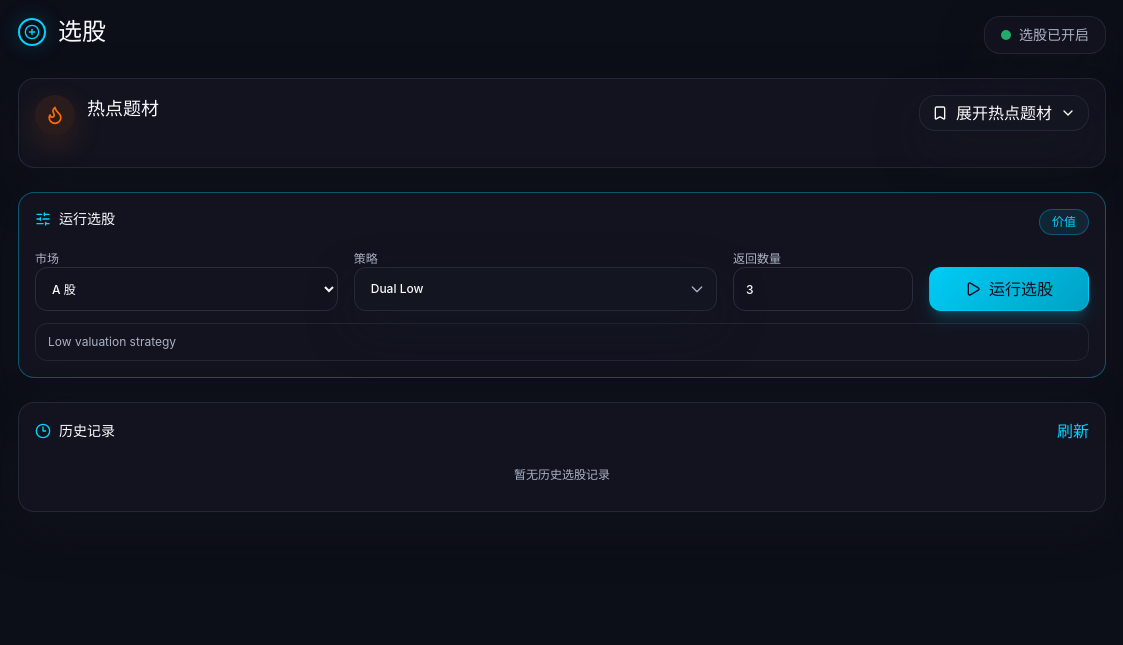
Test: StockScreeningPage › localizes backend hotspot no-cache hint on initial load
This screenshot has width=1123, height=645.
Expected: the text "暂无热点缓存" is not shown
Click the button "展开热点题材".
click(1004, 113)  # box [919,95,1089,131]
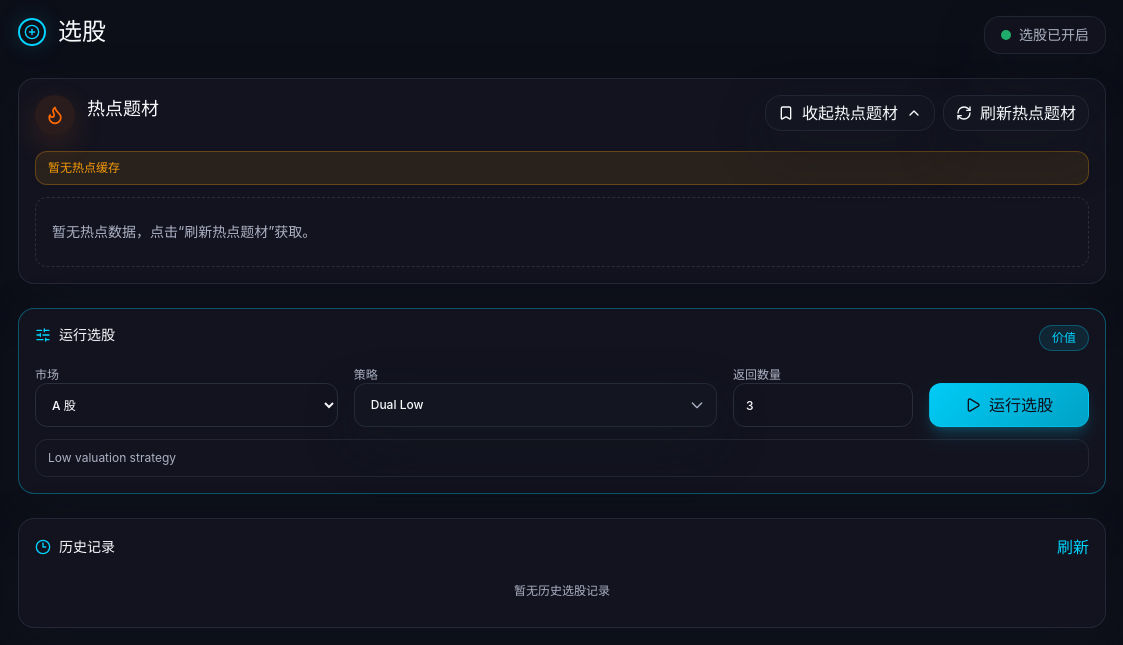
Result: the text "暂无热点缓存" is shown at [35,151,1089,185]
